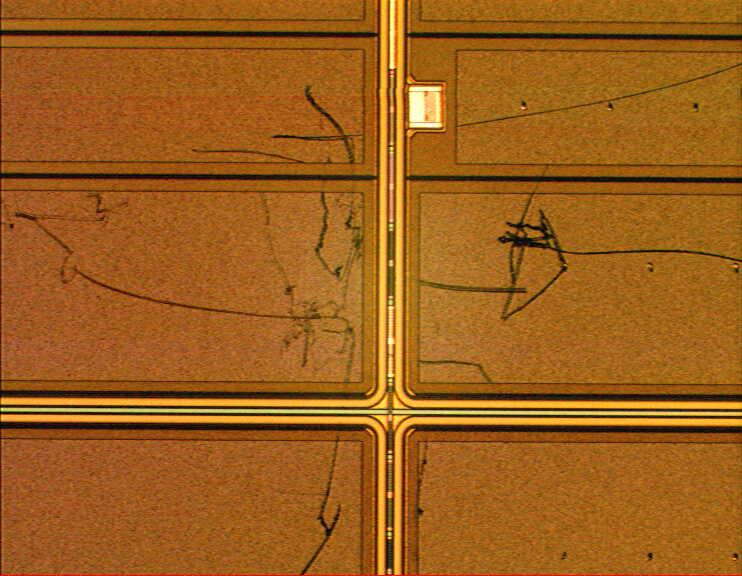SCRATCH: (1, 54, 742, 576)
